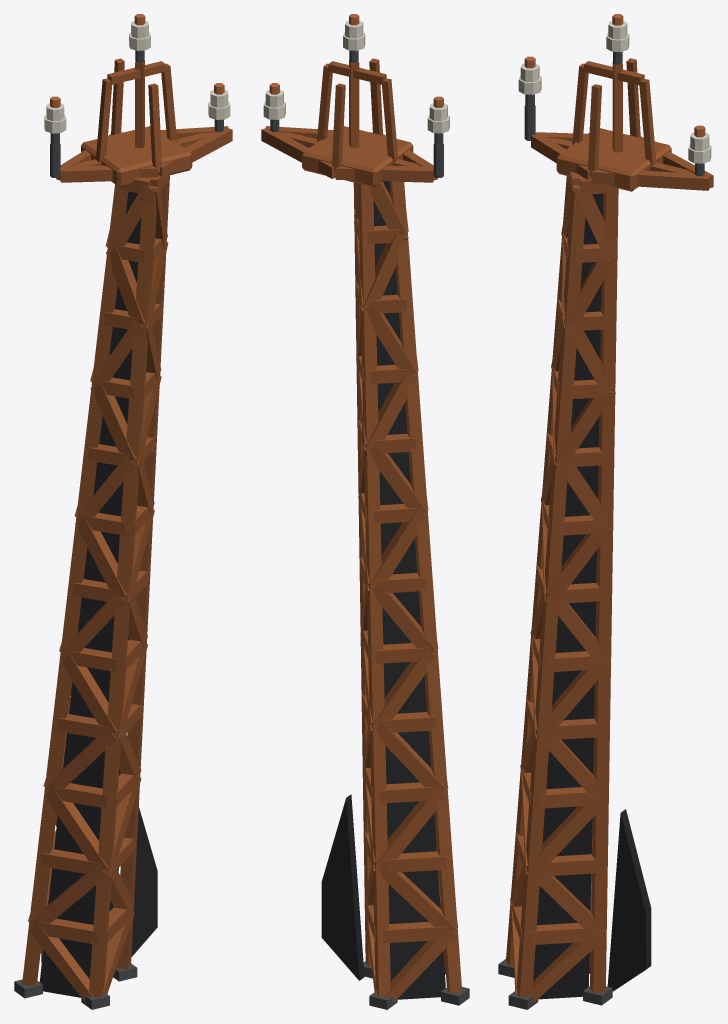
Rendered from medium-electric-pole.glb.
The picture shows the model from 3 angles, left to right: view 1: azimuth 30°, elevation 25°; view 2: azimuth 150°, elevation 25°; view 3: azimuth 330°, elevation 25°; orthographic projection. The views are drawn at different scales.
Visible parts, largest first — view 1: body; view 2: body; view 3: body.
Boxes of the visible parts, <box> form: body: <box>14,14,232,1009</box>; body: <box>261,14,469,1009</box>; body: <box>498,14,713,1009</box>.
Bounding box in the file's own units: 1.14 × 5.04 × 0.5887.
